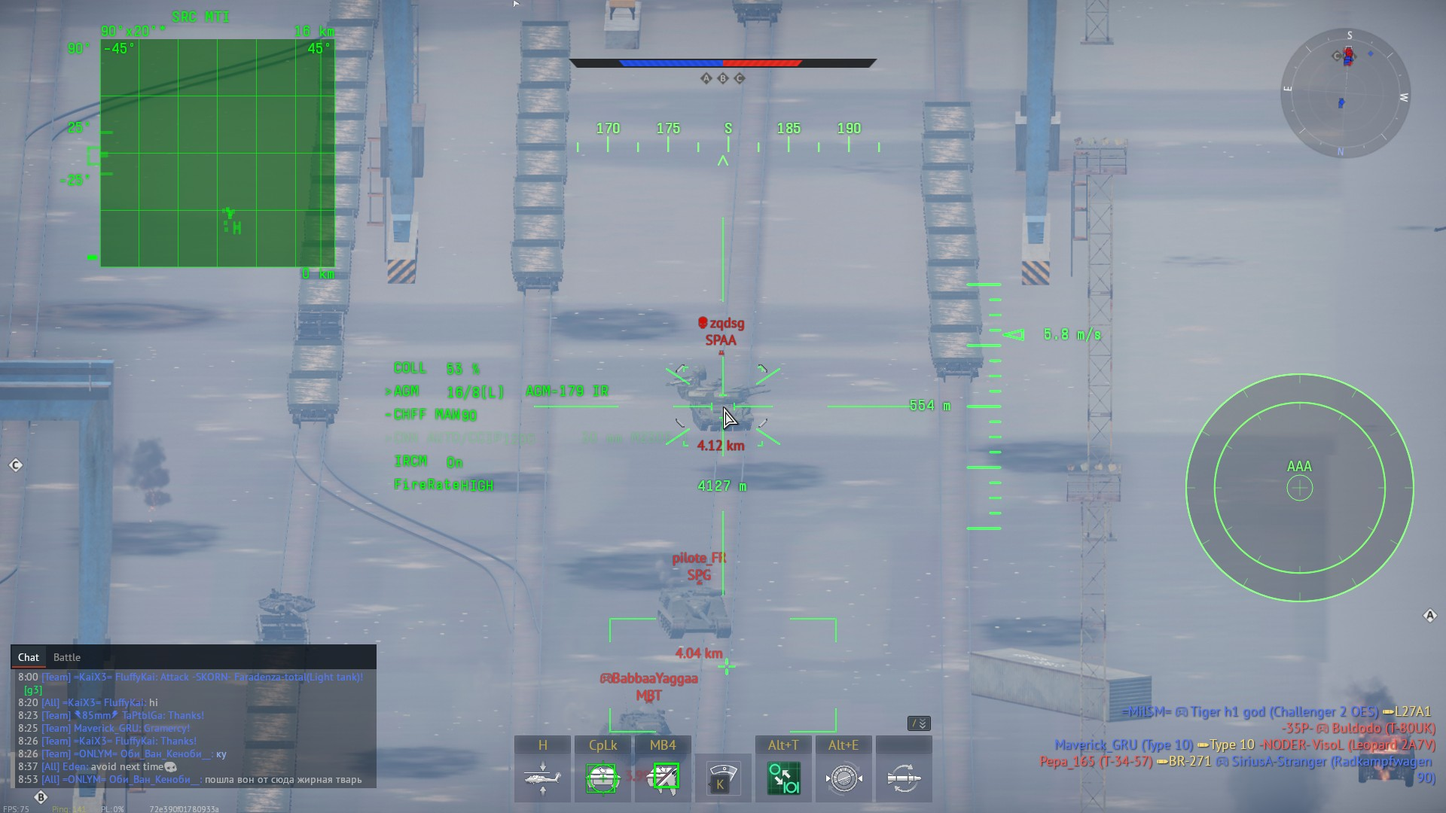spaa_zsu-23: (666, 365, 772, 432)
